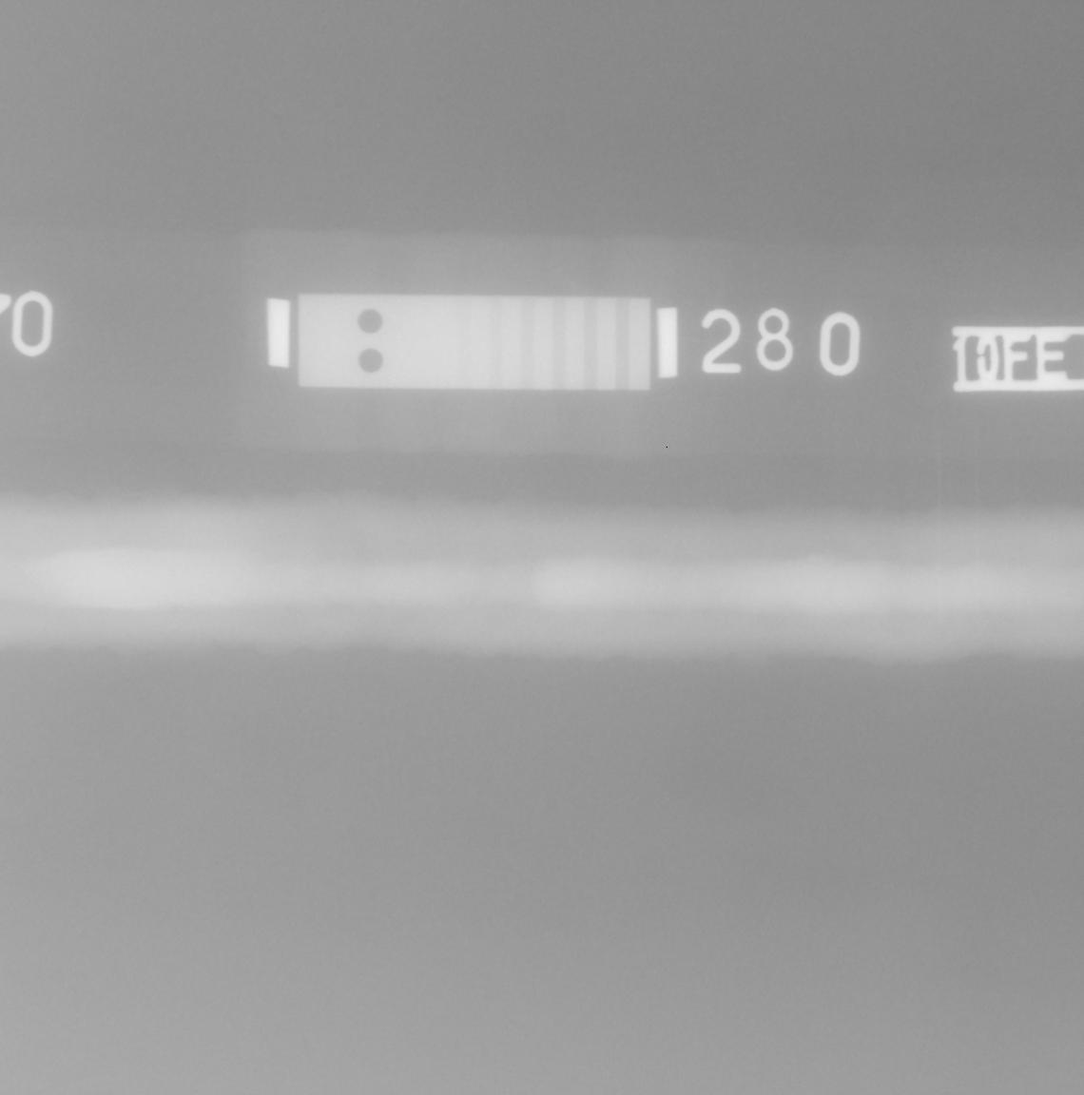Reference Standard 2: (299, 293, 651, 391)
